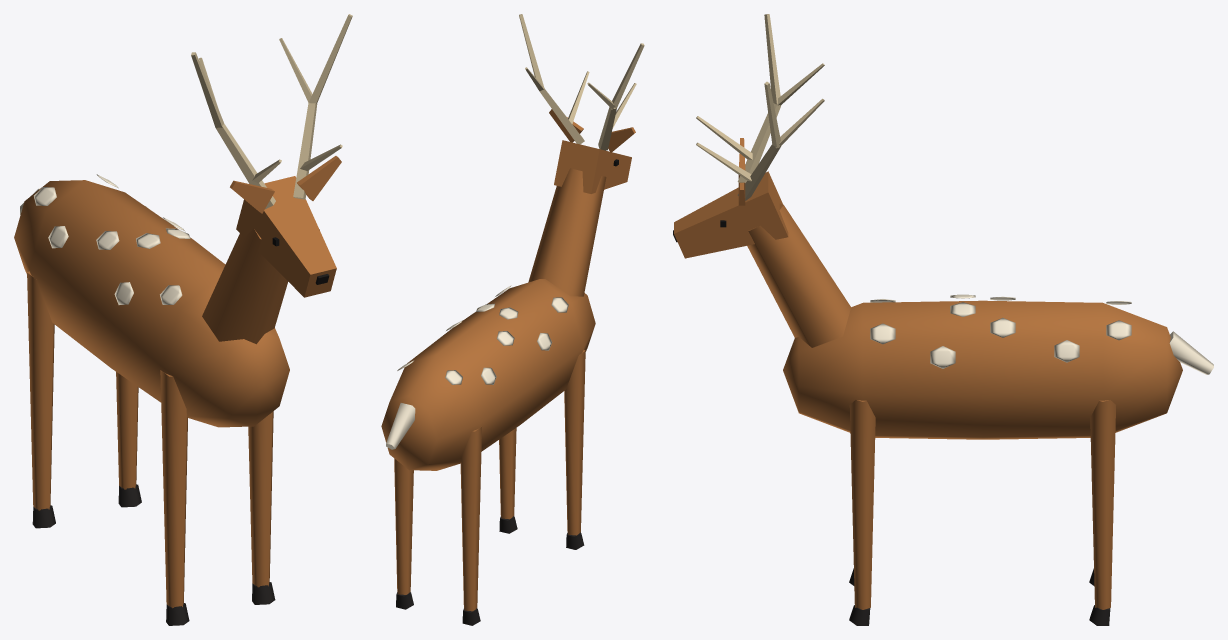
Rendered from rusa.glb.
3 views of the same model, side by side, from view 1: azimuth 30°, elevation 25°; view 2: azimuth 150°, elevation 25°; view 3: azimuth 270°, elevation 25° (orthographic). The views are drawn at different scales.
Parts seen in each view (by area): view 1: body, head, leg_fr, leg_rr, leg_fl, leg_rl; view 2: body, head, leg_rr, leg_fr, leg_rl, leg_fl, tail; view 3: body, head, leg_rl, leg_fl, tail.
Boxes of the visible parts, x1=… form: body: x1=14, y1=174, x2=289, y2=427; head: x1=191, y1=14, x2=352, y2=297; leg_fr: x1=160, y1=370, x2=189, y2=625; leg_rr: x1=27, y1=271, x2=55, y2=528; leg_fl: x1=248, y1=411, x2=275, y2=604; leg_rl: x1=116, y1=372, x2=141, y2=507; body: x1=381, y1=168, x2=606, y2=470; head: x1=519, y1=14, x2=644, y2=193; leg_rr: x1=460, y1=426, x2=481, y2=625; leg_fr: x1=564, y1=350, x2=585, y2=549; leg_rl: x1=394, y1=458, x2=413, y2=609; leg_fl: x1=499, y1=428, x2=517, y2=533; tail: x1=386, y1=403, x2=415, y2=449; body: x1=747, y1=203, x2=1182, y2=439; head: x1=673, y1=14, x2=824, y2=258; leg_rl: x1=1089, y1=400, x2=1115, y2=625; leg_fl: x1=849, y1=400, x2=875, y2=625; tail: x1=1169, y1=331, x2=1213, y2=374.
Bounding box in the file's own units: 0.5049 × 1.84 × 1.62.
Materials: 1 (1 with a texture image).
